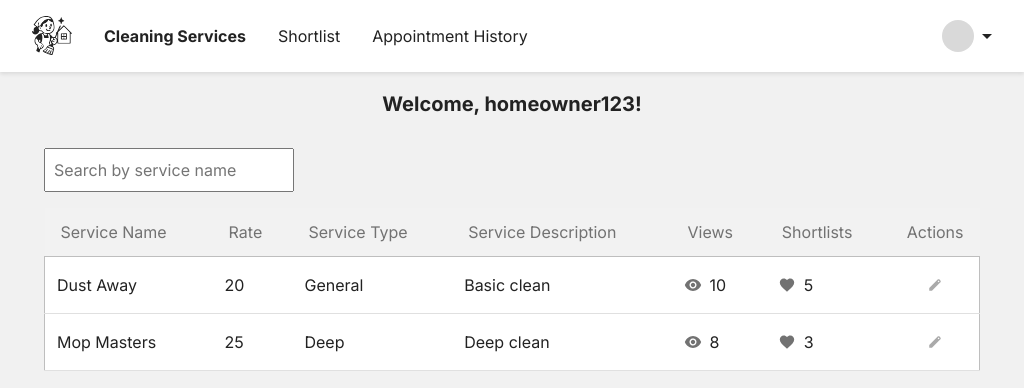
Test: HomeownerManagementUI - Service View & Search › filters services based on search input
The image size is (1024, 388).
Expected: the number of rows with test id "service-row" is 2, [44,256,980,314]; [44,314,980,370]
Type "Mop" into the field with placeholder "Search by service name". click: (169, 170)
box: [44,148,294,192]
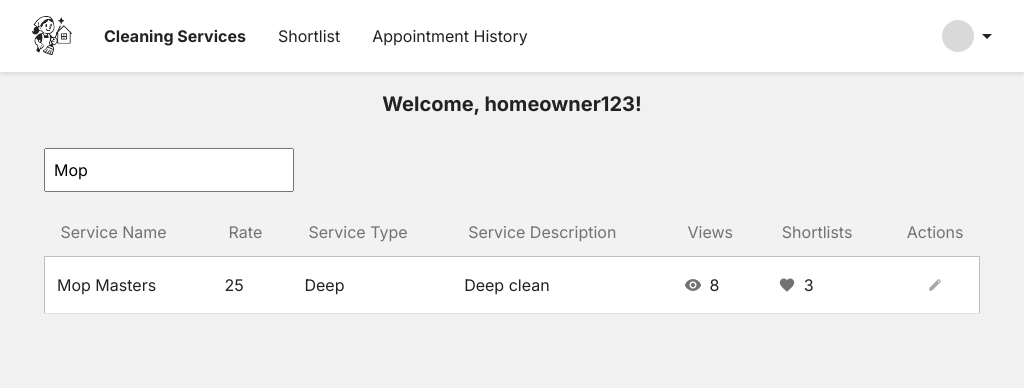
Result: the number of rows with test id "service-row" is 1 at [44,256,980,314]
Result: the row with test id "service-row" shows "Mop Masters" at [57,275,156,295]
